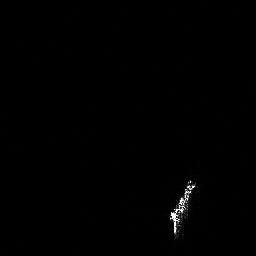ship: (164, 174, 199, 240)
